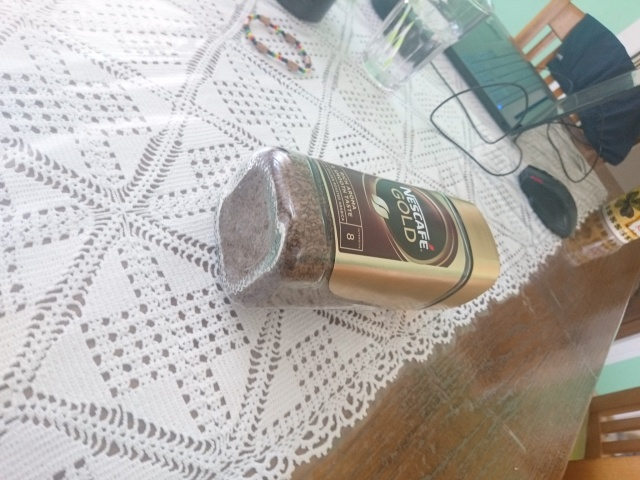Nescafe Gold 225g: (210, 143, 503, 314)
